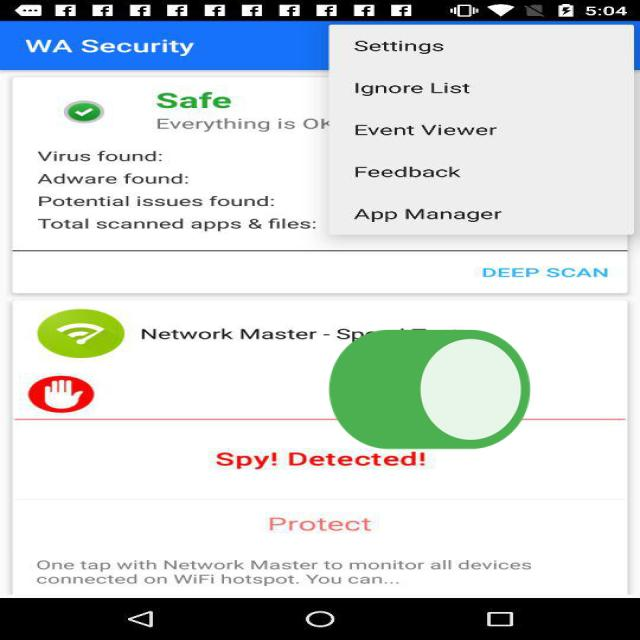social proof: (320, 284, 539, 504)
